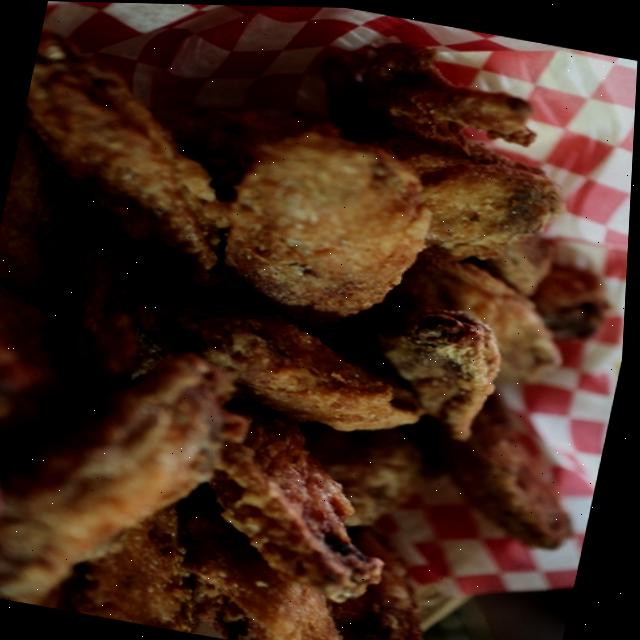鸡肉料理 含炸鸡: (0, 3, 640, 640)
